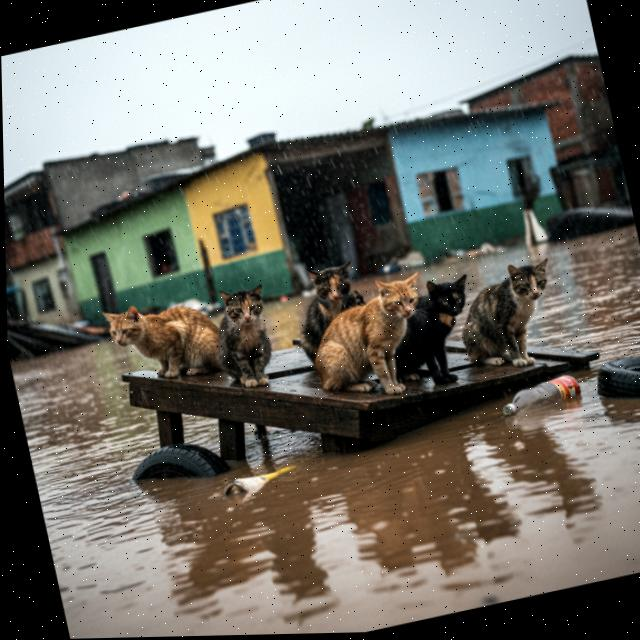cat: (290, 269, 441, 414), (451, 249, 574, 375), (101, 283, 230, 394), (277, 255, 383, 374), (378, 270, 477, 396), (195, 275, 281, 403)
